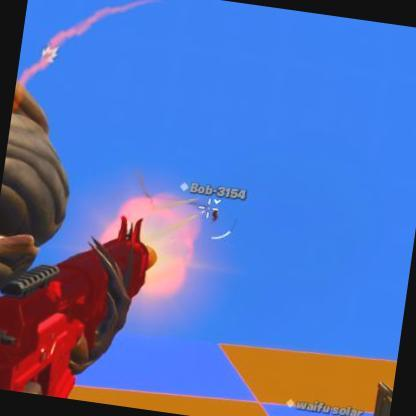person: (209, 201, 221, 222)
